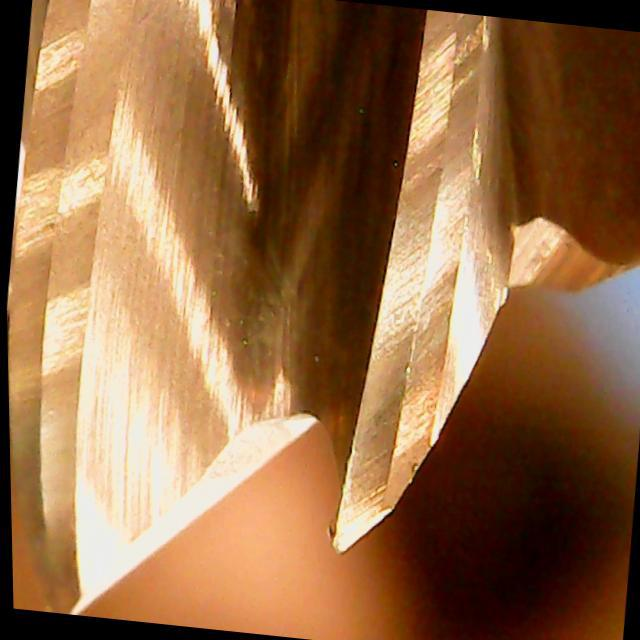Tool-wear-class-0: (292, 201, 511, 576)
